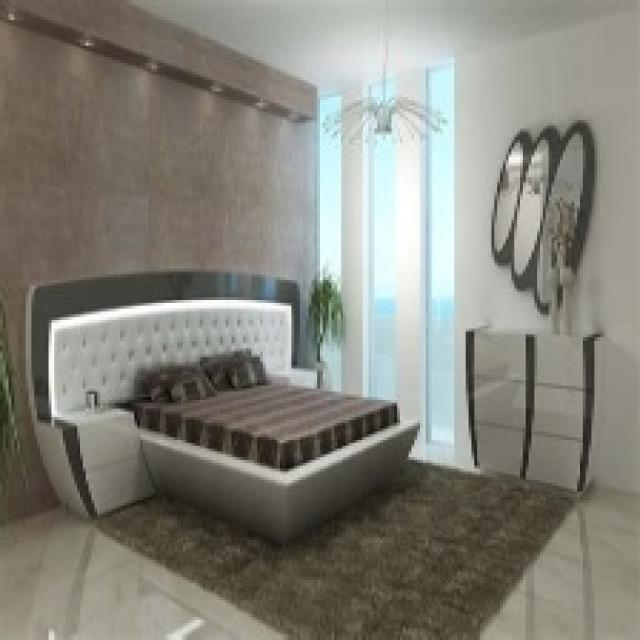Bed: (23, 268, 420, 546)
